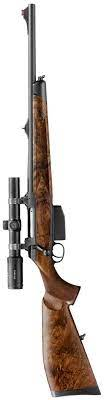gun: (2, 2, 104, 400)
